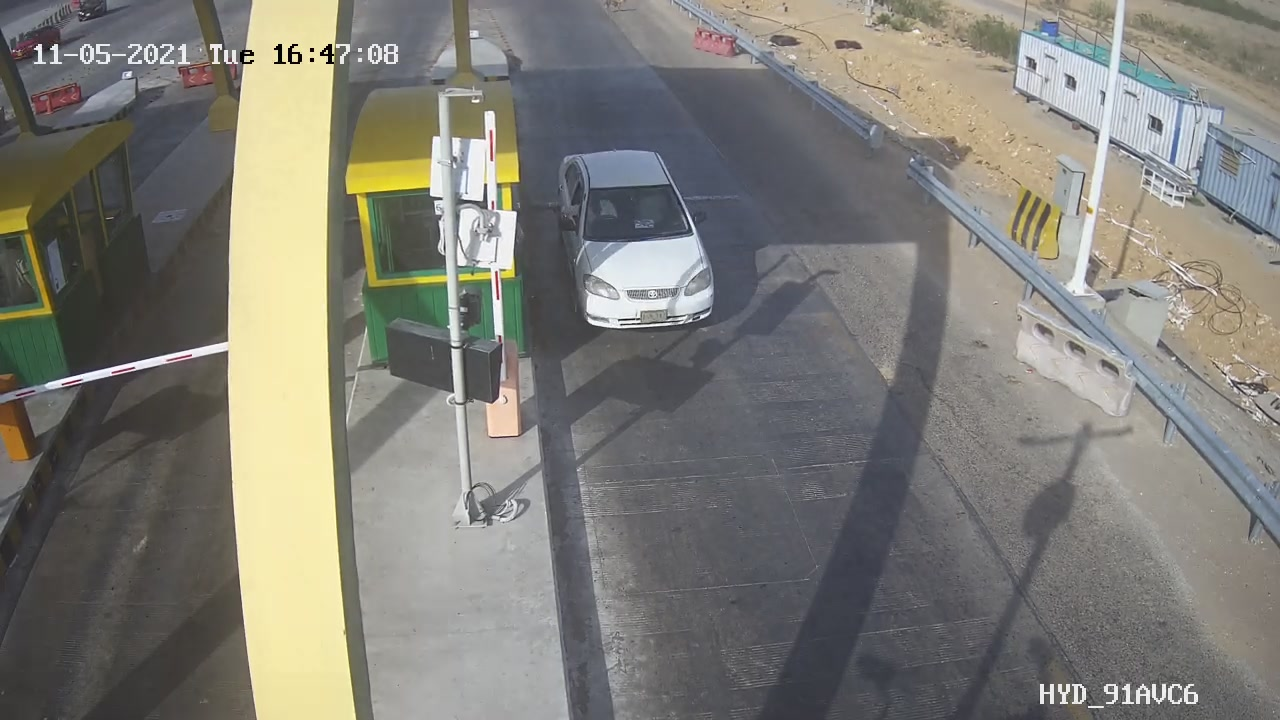F1: (535, 129, 739, 347)
